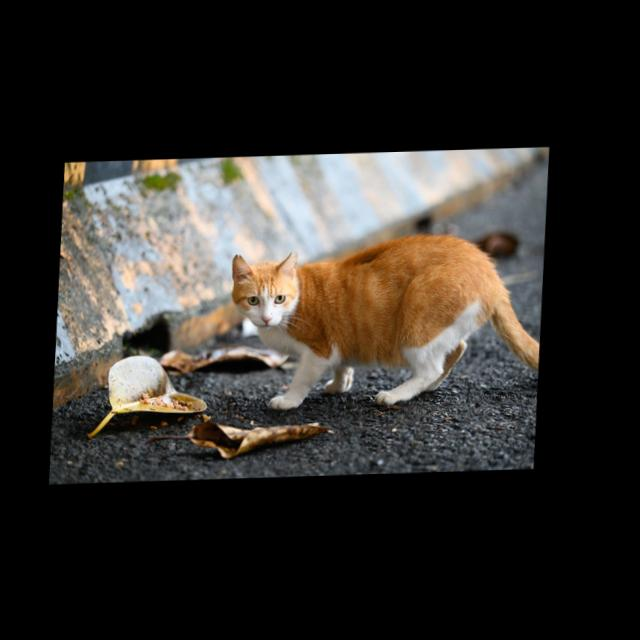animals: (228, 231, 551, 411)
